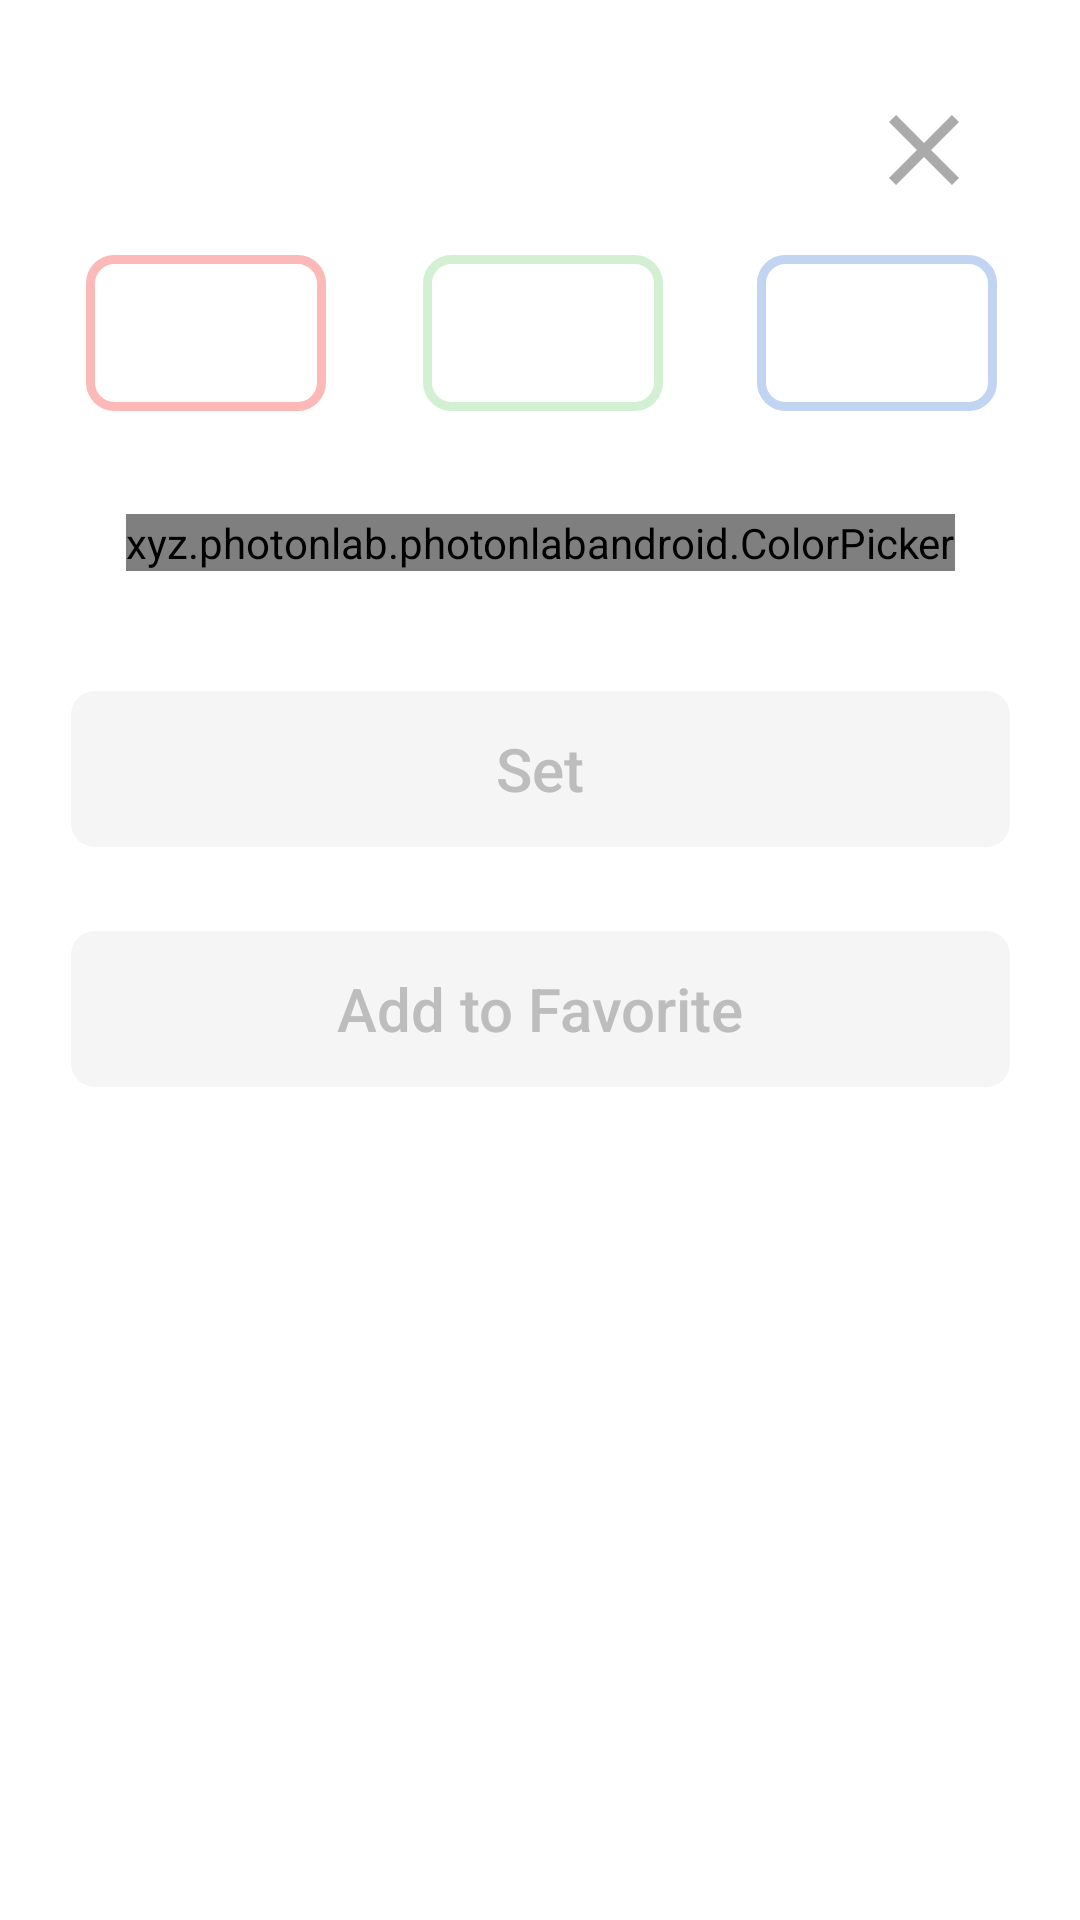

Screen size 1080w x 1920h. Icon name, then its center in pixels as (x,y):
close: (924,150)
